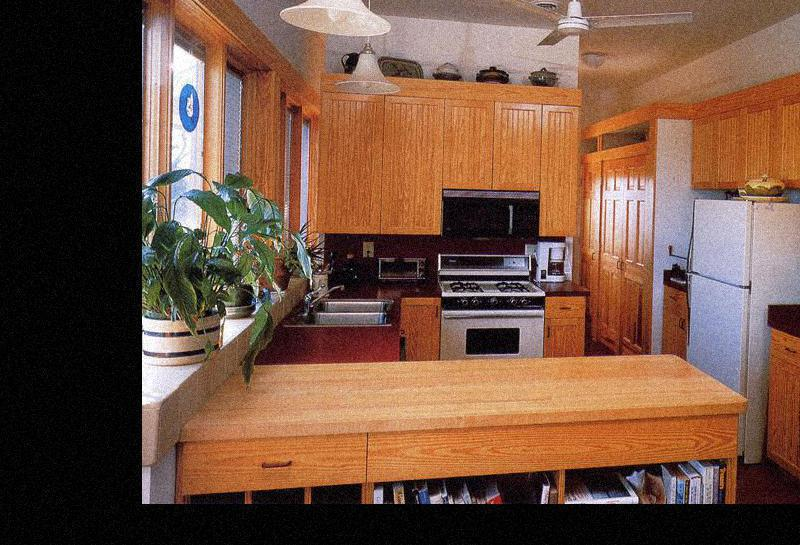Electrodomestico: (693, 201, 764, 389), (446, 269, 544, 355)
Lavaplatos: (289, 277, 396, 328)
Matera: (151, 195, 255, 361), (218, 171, 282, 324)
